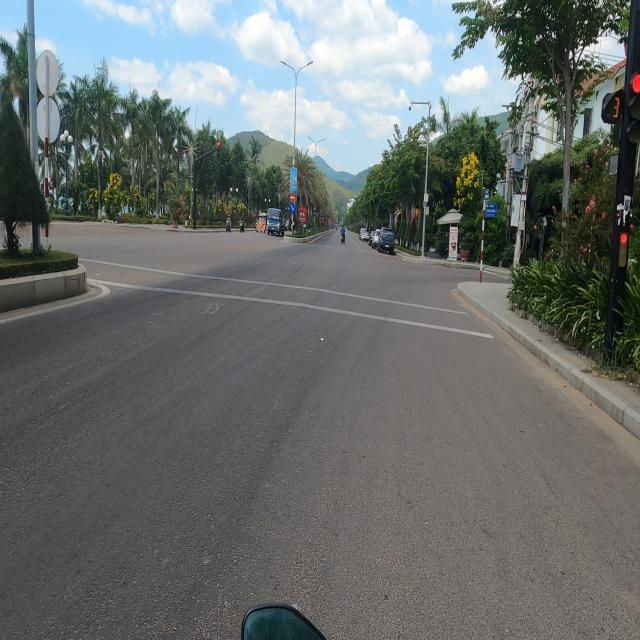walk-crossing: (79, 258, 497, 342)
